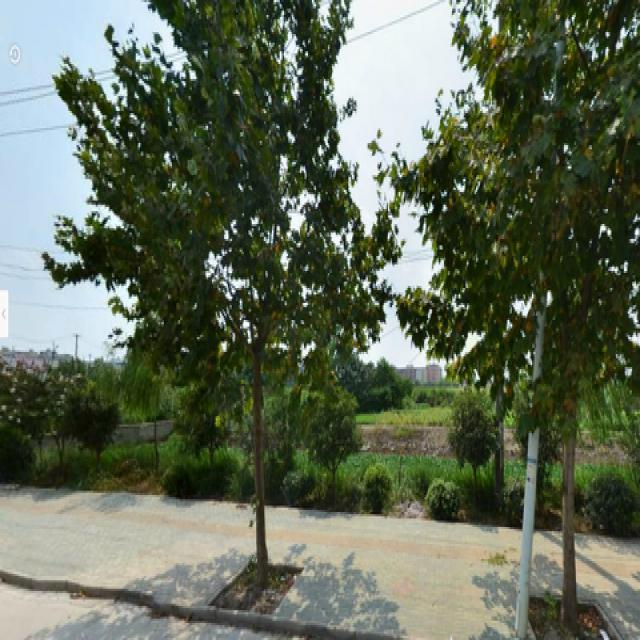meta: (142, 20, 338, 582), (477, 26, 620, 627)
